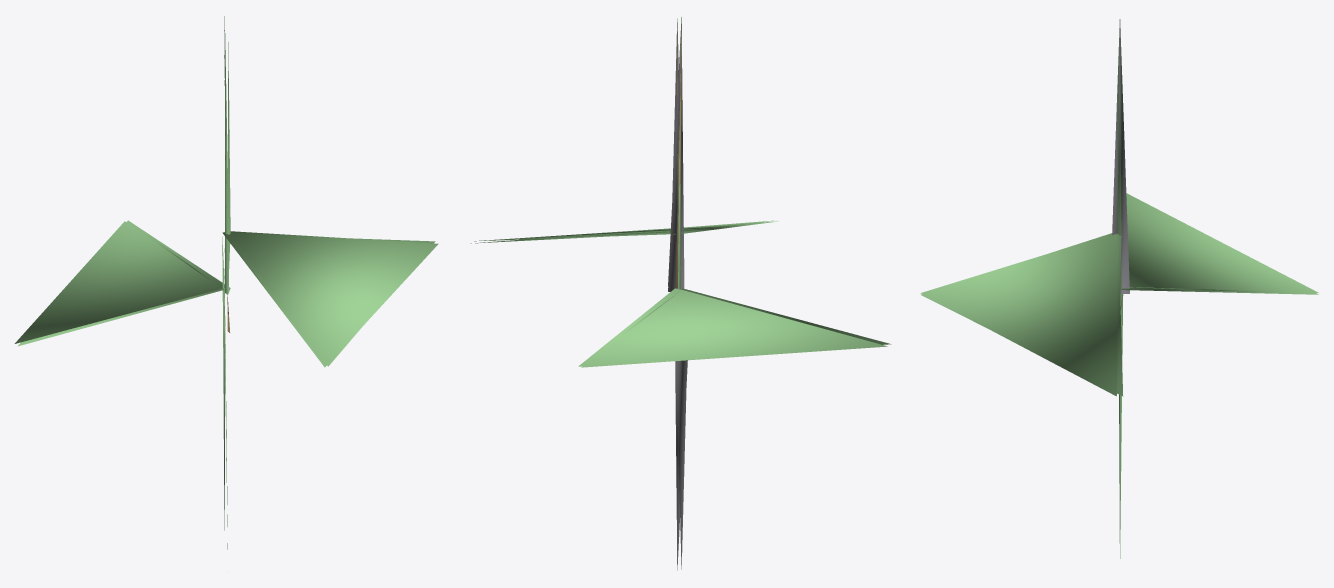
The model's file is equip_weapon_adamant_longsword.glb.
3 renders of one model, left to right at view 1: azimuth 30°, elevation 25°; view 2: azimuth 150°, elevation 25°; view 3: azimuth 270°, elevation 25°, orthographic.
Visible parts, largest first — view 1: equip_weapon_adamant_longsword; view 2: equip_weapon_adamant_longsword; view 3: equip_weapon_adamant_longsword.
Part boxes in pixels (box(x1,y1,x2,y2)): equip_weapon_adamant_longsword: box(14, 16, 438, 549); equip_weapon_adamant_longsword: box(470, 17, 891, 570); equip_weapon_adamant_longsword: box(920, 19, 1318, 558).
Size of the model in its own units: 1.8 by 2.28 by 1.48.
